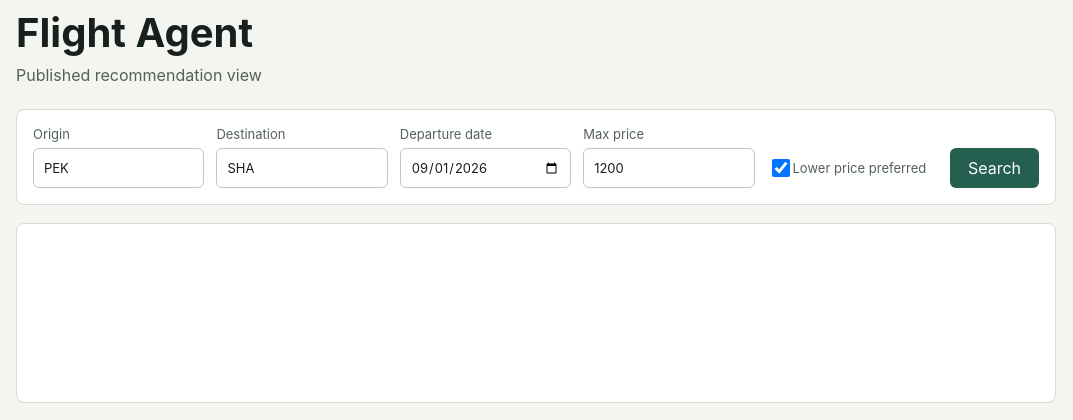
Scenario: App › renders transport errors distinctly
Click the button "Search". click: (994, 168)
box: [950,148,1039,188]
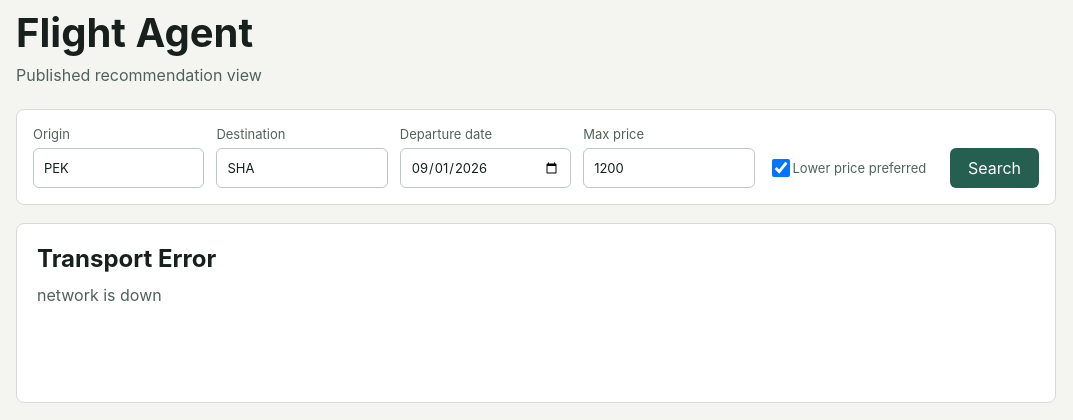
Expected: the heading "Transport Error" is shown, [37,244,216,273]
Expected: the text "network is down" is shown, [37,285,162,305]
